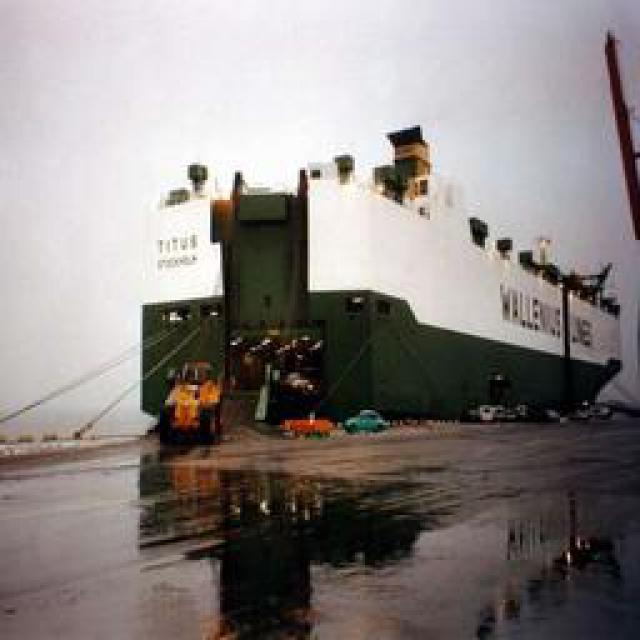Ship: (134, 119, 631, 431)
